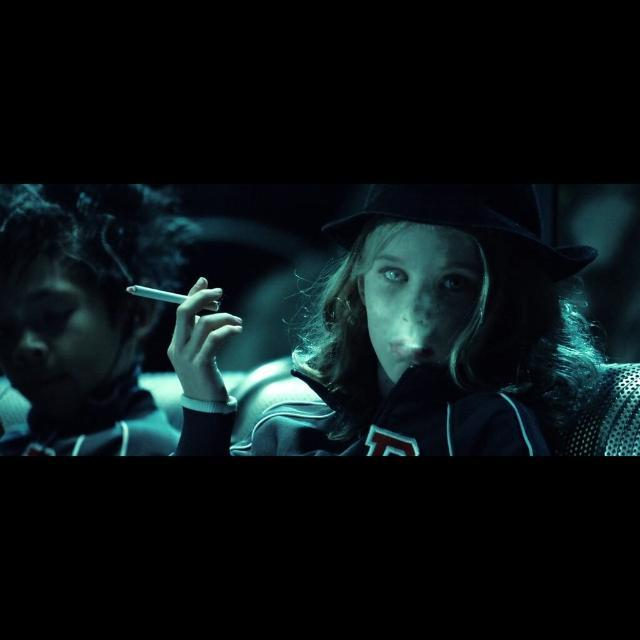rokok: (122, 281, 188, 307)
